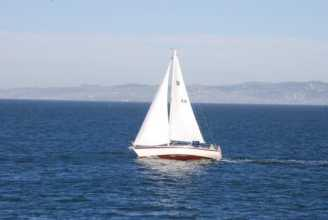fanchuan: (124, 48, 230, 159)
